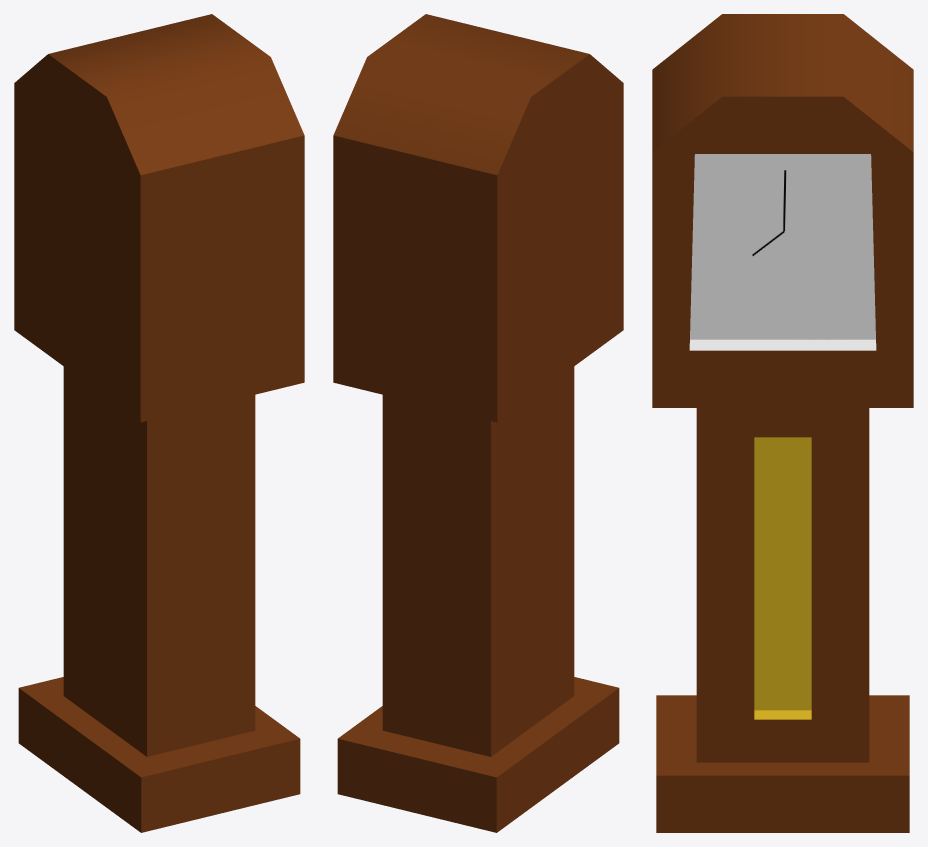
The model's file is clock.fbx.
The picture shows the model from 3 angles, left to right: view 1: azimuth 30°, elevation 25°; view 2: azimuth 150°, elevation 25°; view 3: azimuth 270°, elevation 25°; orthographic projection. The views are drawn at different scales.
Parts seen in each view (by area): view 1: pCube1; view 2: pCube1; view 3: pCube1.
Boxes of the visible parts, left/top/right/bottom form: pCube1: left=14, top=14, right=304, bottom=832; pCube1: left=333, top=14, right=623, bottom=832; pCube1: left=652, top=14, right=913, bottom=832.
Bounding box in the file's own units: 3.86 × 16.06 × 5.15.
1 material, 1 textured.
